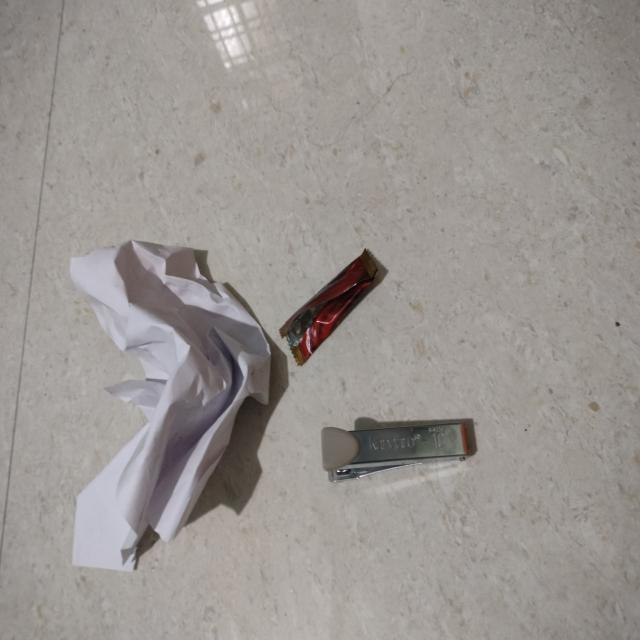dry: (71, 241, 272, 571), (280, 246, 379, 366), (321, 420, 476, 480)
